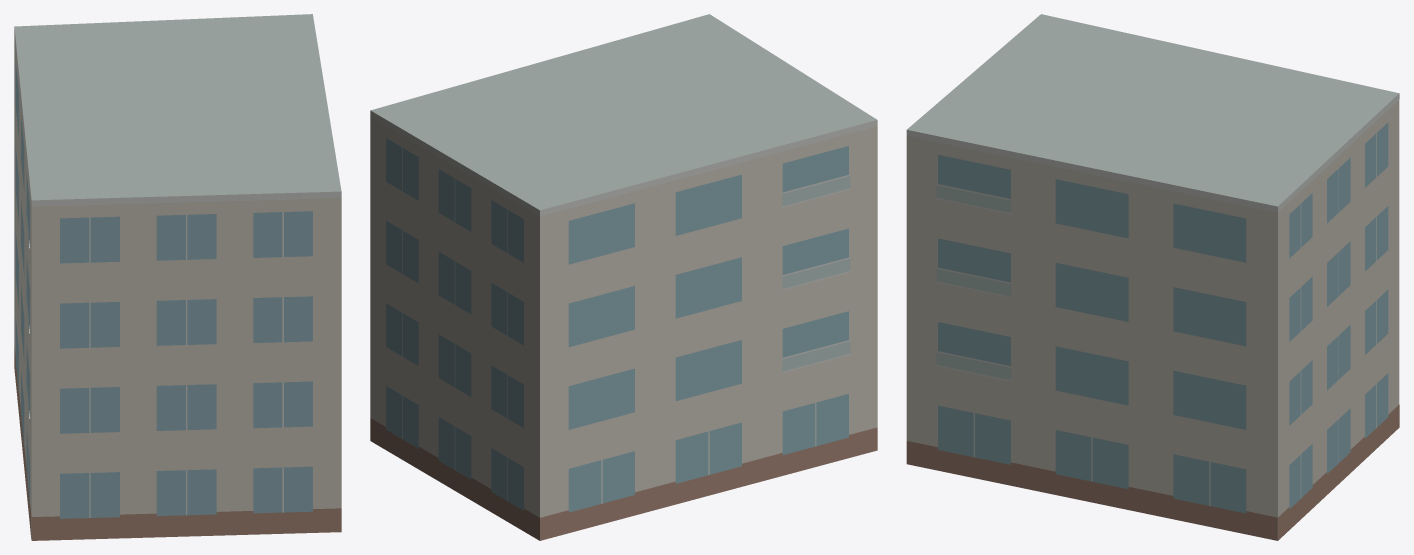
Rendered from survey-upis-32481966.glb.
3 views of the same model, side by side, from view 1: azimuth 30°, elevation 25°; view 2: azimuth 150°, elevation 25°; view 3: azimuth 270°, elevation 25° (orthographic). The views are drawn at different scales.
Parts seen in each view (by area): view 1: survey-upis-32481966.tmp; view 2: survey-upis-32481966.tmp; view 3: survey-upis-32481966.tmp.
Boxes of the visible parts, left/top/right/bottom form: survey-upis-32481966.tmp: left=14, top=14, right=341, bottom=540; survey-upis-32481966.tmp: left=370, top=14, right=877, bottom=540; survey-upis-32481966.tmp: left=906, top=14, right=1399, bottom=540.
Size of the model in its own units: 16.06 by 13 by 17.37.
